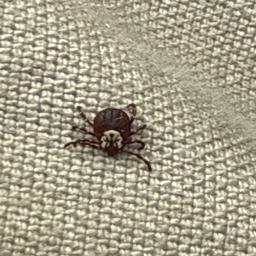Dermacentor variabilis: (66, 106, 152, 172)
